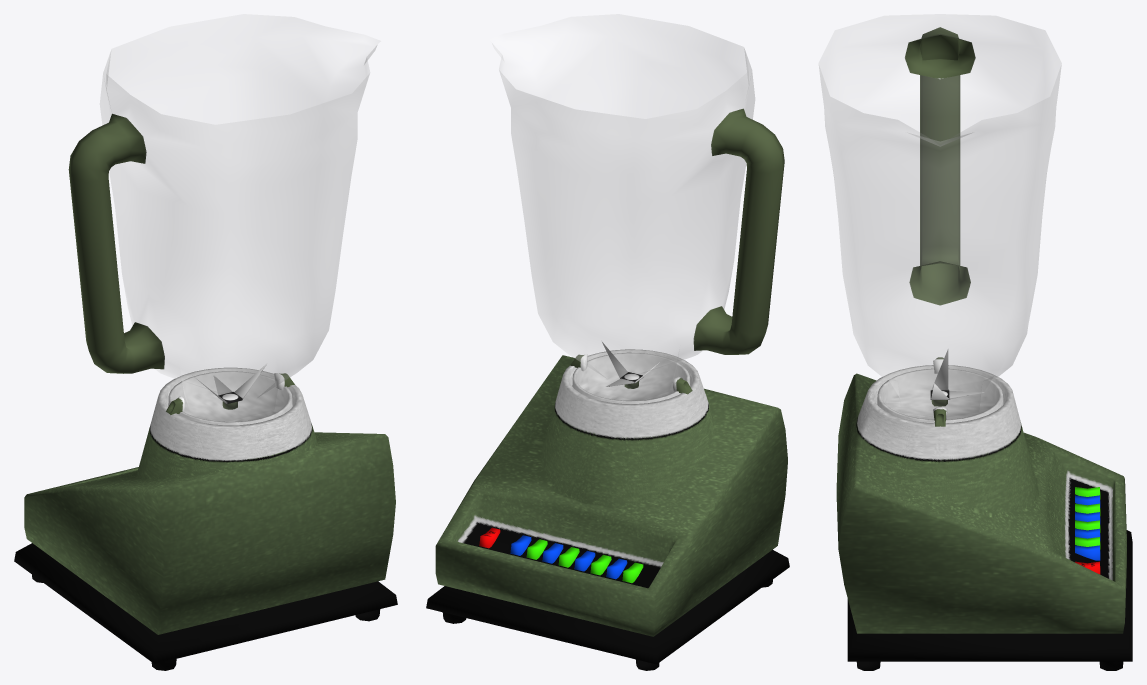
File: blender.fbx
3 views of the same model, side by side, from view 1: azimuth 30°, elevation 25°; view 2: azimuth 150°, elevation 25°; view 3: azimuth 270°, elevation 25° (orthographic). The views are drawn at different scales.
Visible parts, largest first — view 1: blender.002, blender, blender.008; view 2: blender.002, blender, blender.008; view 3: blender.002, blender, blender.008.
Part boxes in pixels (x1,y1,x2,y2): blender.002: (68,14,380,421); blender: (14,367,397,670); blender.008: (192,363,267,409); blender.002: (489,14,784,400); blender: (426,349,789,670); blender.008: (602,342,659,388); blender.002: (819,14,1061,417); blender: (836,357,1132,670); blender.008: (930,349,984,406).
Bounding box in the file's own units: 57.29 × 96.28 × 49.53.
2 materials, 1 textured.
